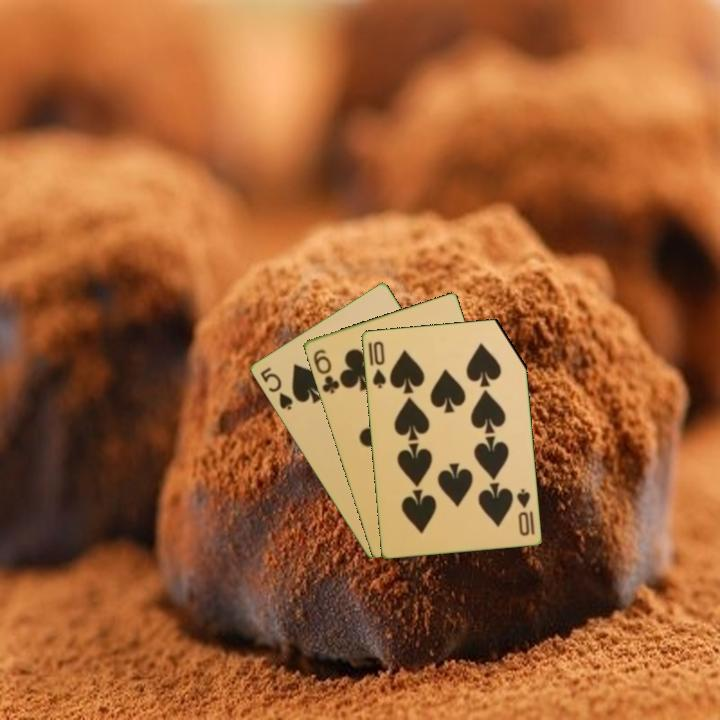10s: (513, 485, 537, 538), (369, 337, 388, 391)
5s: (256, 364, 295, 413)
6c: (309, 346, 342, 397)
